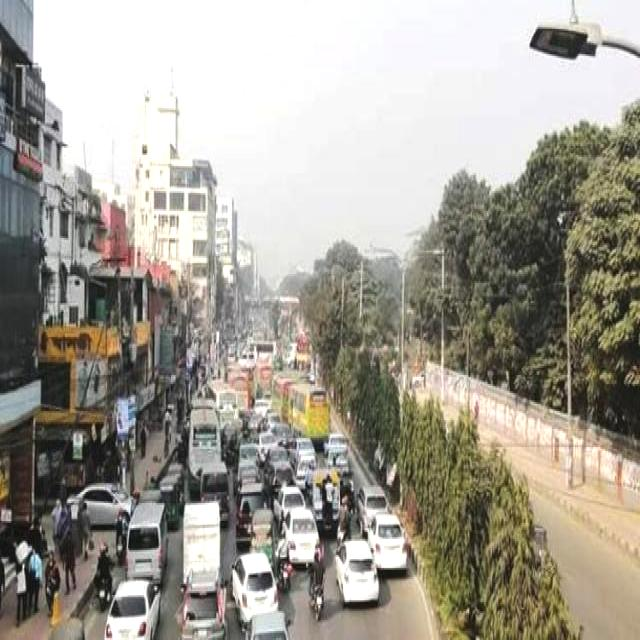silver: (126, 499, 173, 586), (177, 565, 226, 640), (248, 610, 284, 640)
white: (109, 578, 165, 640), (67, 480, 136, 530), (230, 552, 277, 623), (278, 502, 322, 565), (333, 545, 378, 606), (369, 513, 410, 576)
